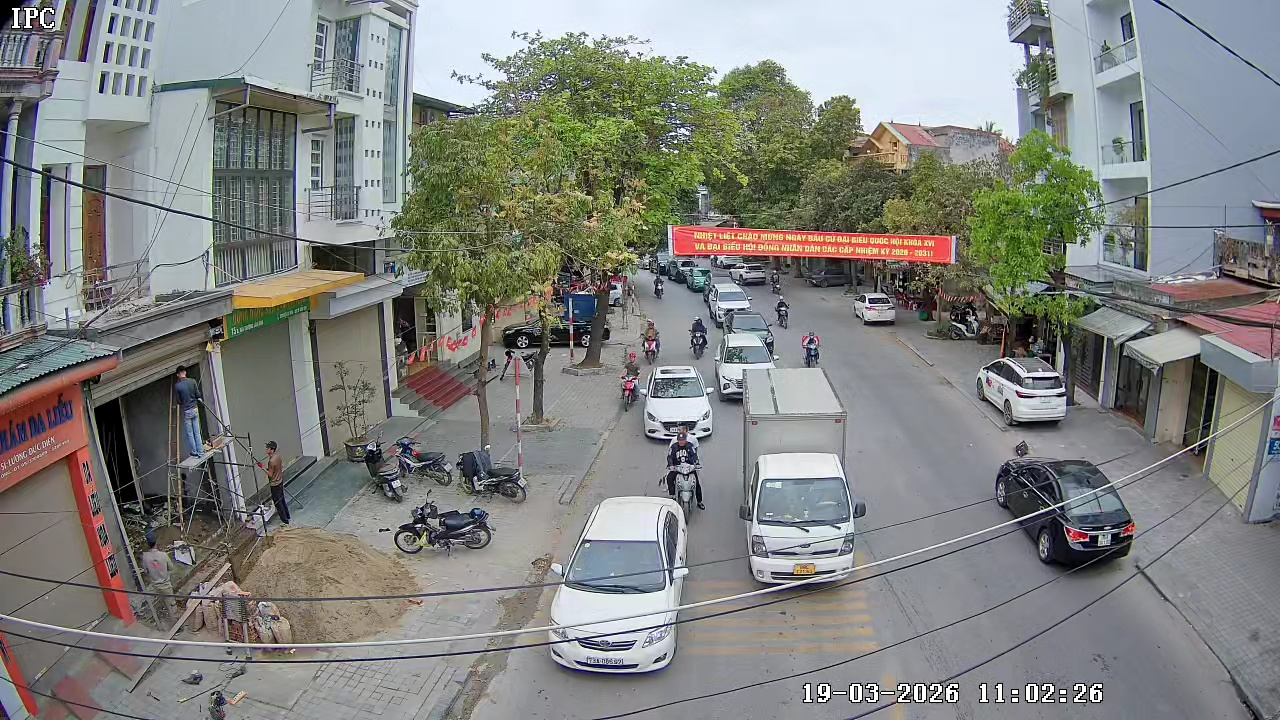car: (547, 493, 694, 675), (976, 354, 1069, 428), (641, 364, 717, 444), (715, 337, 757, 403), (732, 314, 778, 359), (708, 287, 753, 329), (856, 292, 897, 327)
motorbike: (393, 486, 496, 556), (456, 435, 531, 503), (669, 434, 707, 522), (619, 356, 641, 410), (640, 319, 660, 363), (689, 315, 707, 359), (801, 331, 820, 368), (775, 292, 790, 329)
pedestrian: (256, 439, 294, 531)
truck: (741, 363, 862, 589), (995, 452, 1136, 568)
